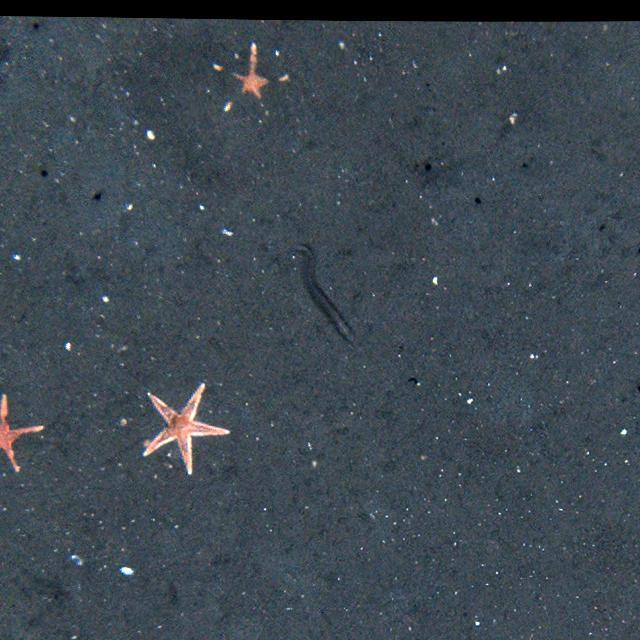roundfish: (291, 242, 361, 346)
